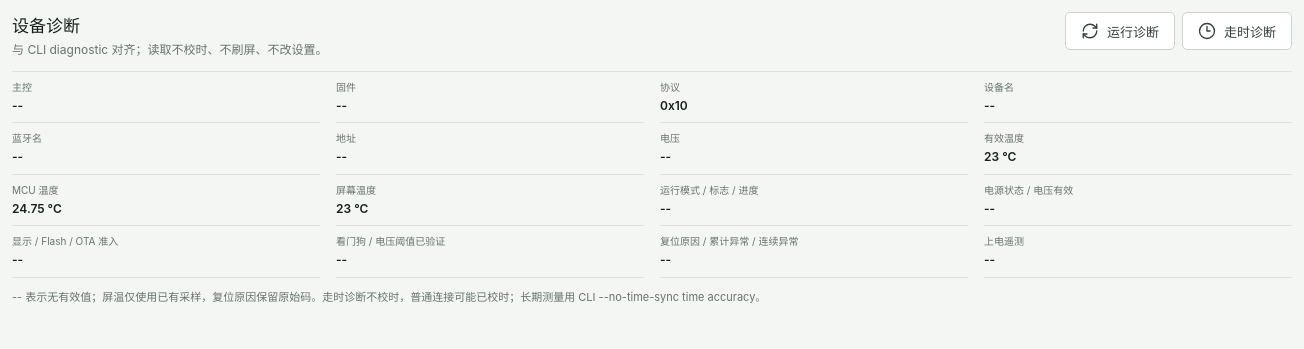
queries optional health only after STATUS and retains an explicit refusal with no retry
Later steps or results of the test are not shown.
Click the button "运行诊断". click: (1120, 31)
box: [1065,12,1175,50]
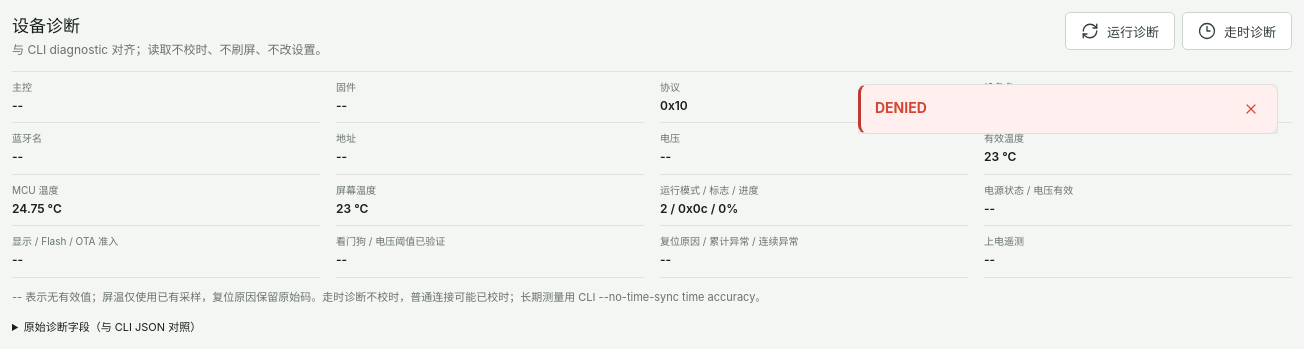
Check: the text "2 / 0x0c / 0%" is shown, box [660,201,738,216]
Check: the message "DENIED" is shown, box [858,84,1278,134]
